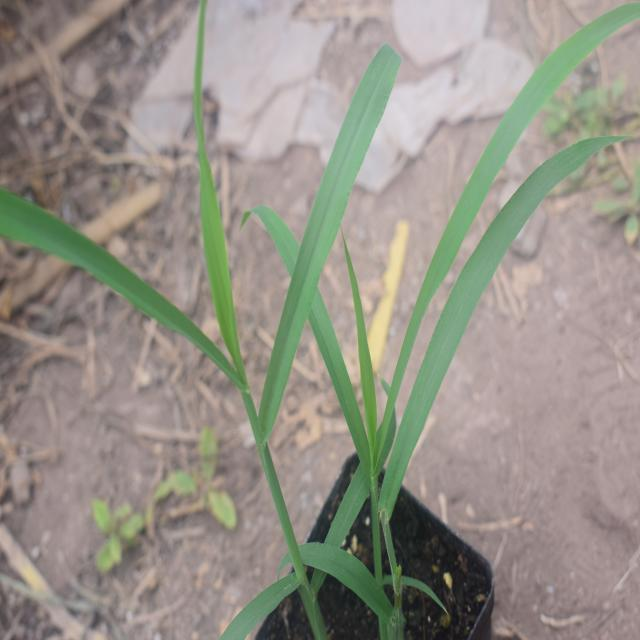crabgrass: (2, 17, 376, 480), (333, 25, 611, 525)
